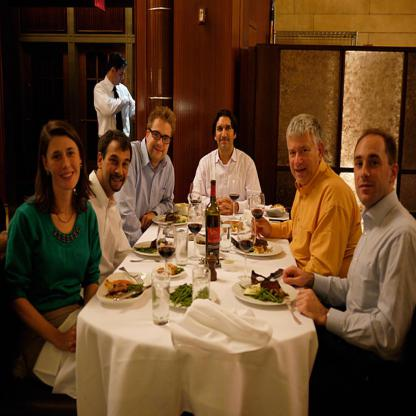face: (354, 137, 391, 205), (48, 137, 81, 191), (289, 135, 321, 184), (103, 143, 131, 193), (148, 119, 172, 161), (217, 117, 234, 151), (115, 68, 126, 85)
